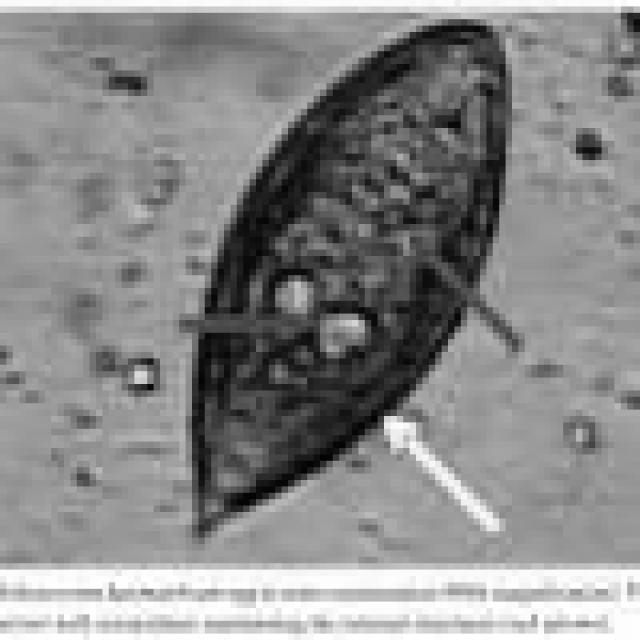Schistosoma: (170, 9, 528, 554)
